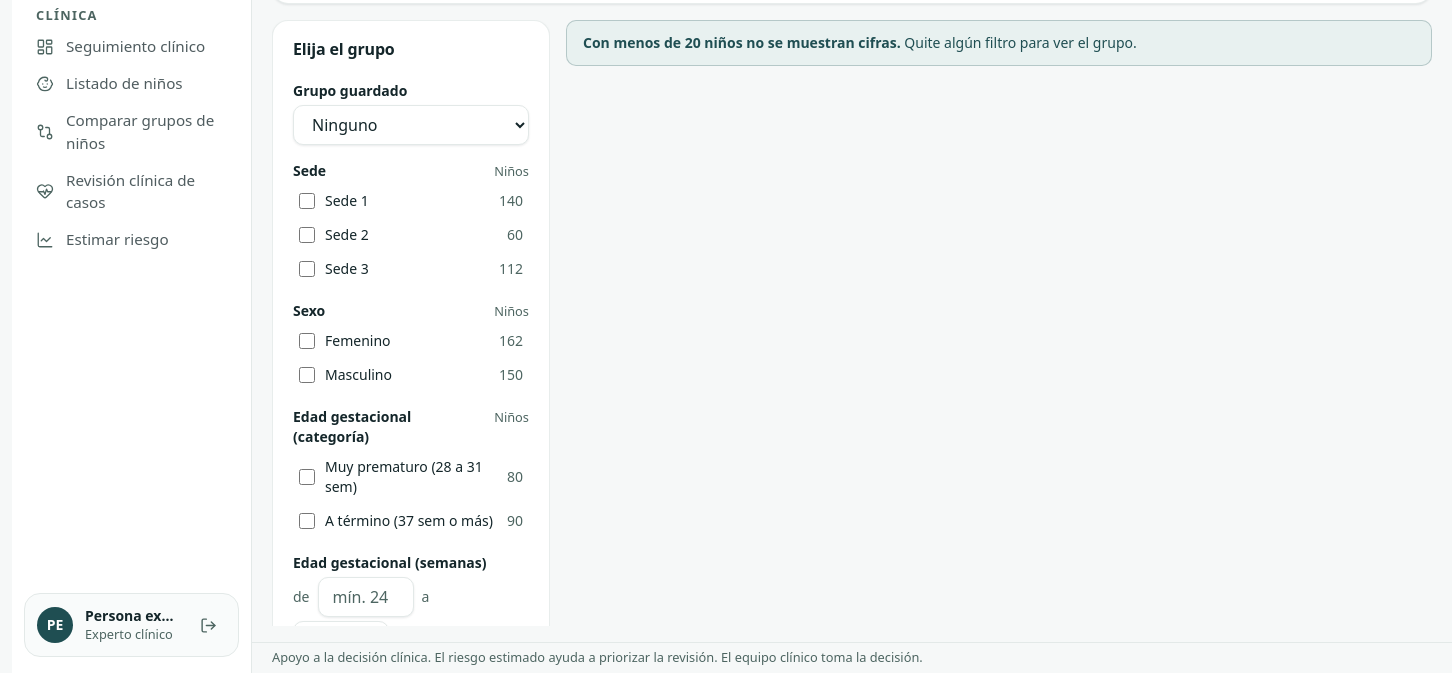
Test: las filas, los rangos, el período y el muestreo del panel (Explorar) › un rango son dos campos compactos con «de … a … unidad»; los límites son sugerencias, no valores escritos
Expected: the element named "Edad gestacional (semanas): desde" reads "Edad gestacional (semanas) de a semanas", [293, 553, 486, 626]
Step 1. Type "28" into the field named "Edad gestacional (semanas): desde" → x=366, y=597, box [318, 577, 414, 617]
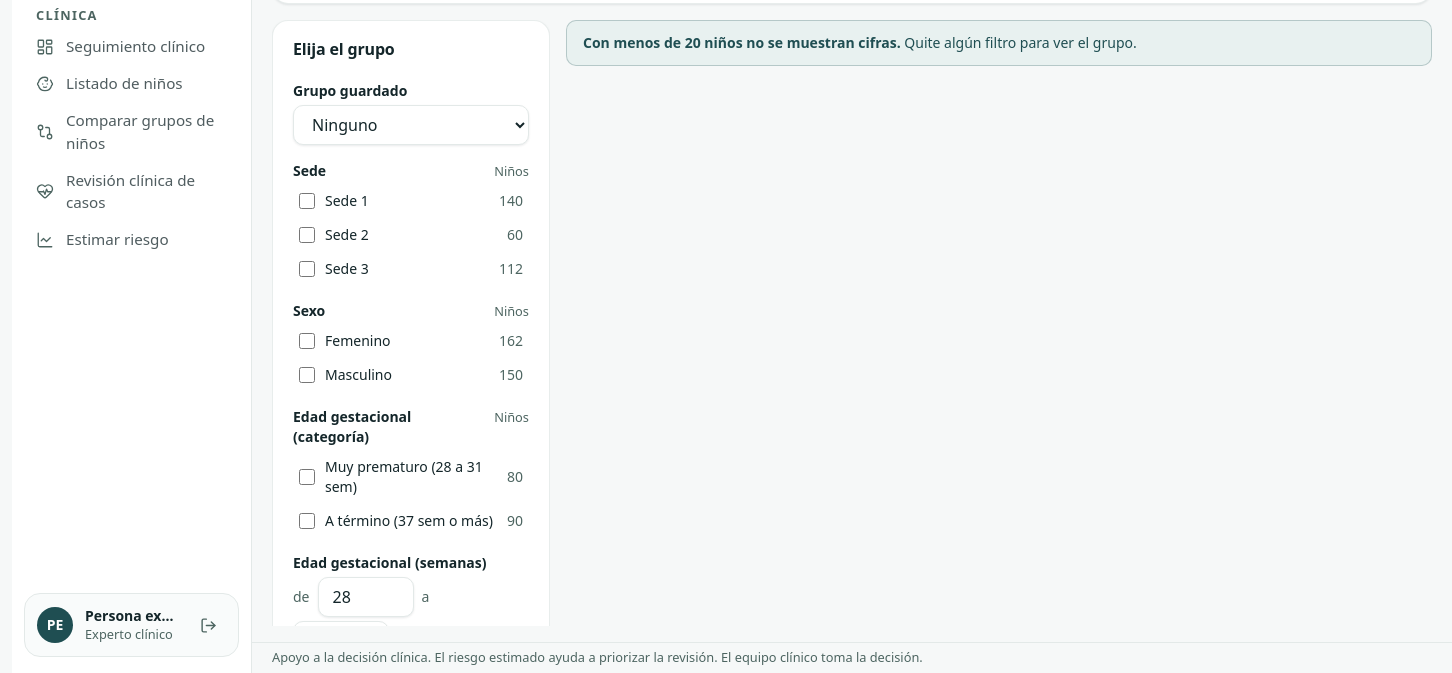
Step 2. Leave the field named "Edad gestacional (semanas): desde", box [318, 577, 414, 617]
(page scrolled)
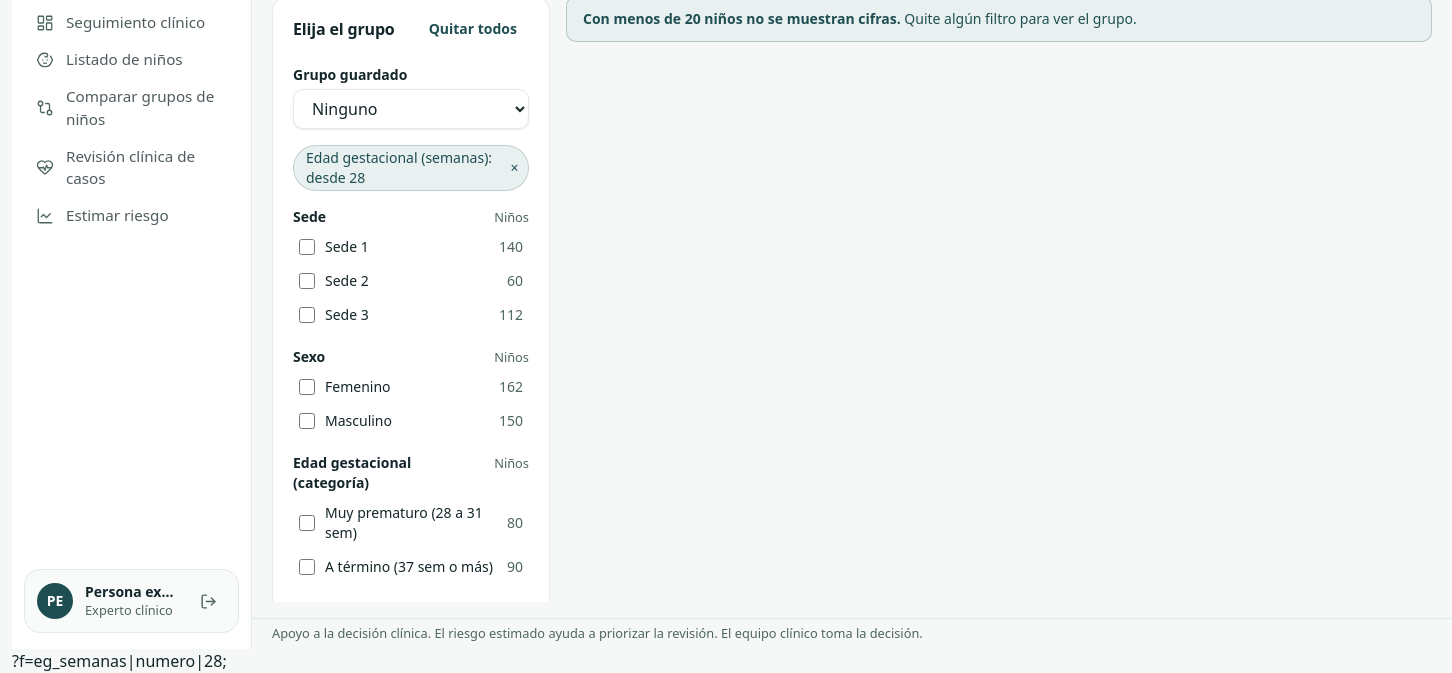
Result: the text with test id "ubicacion" shows "f=eg_semanas|numero|28;" at [12, 650, 227, 672]
